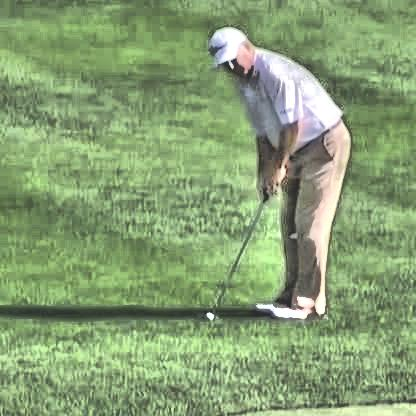golfball: (201, 312, 212, 319)
